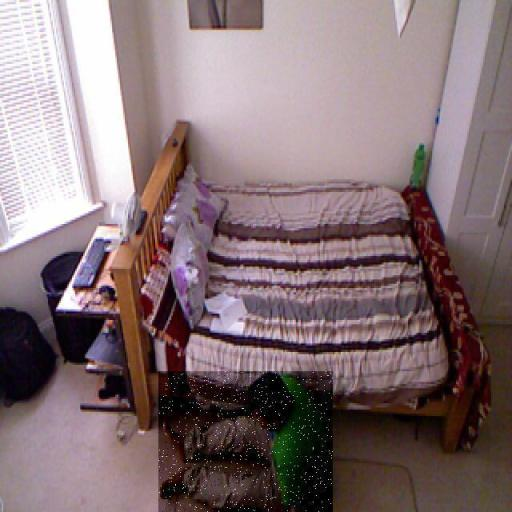Fall: (158, 371, 333, 512)
